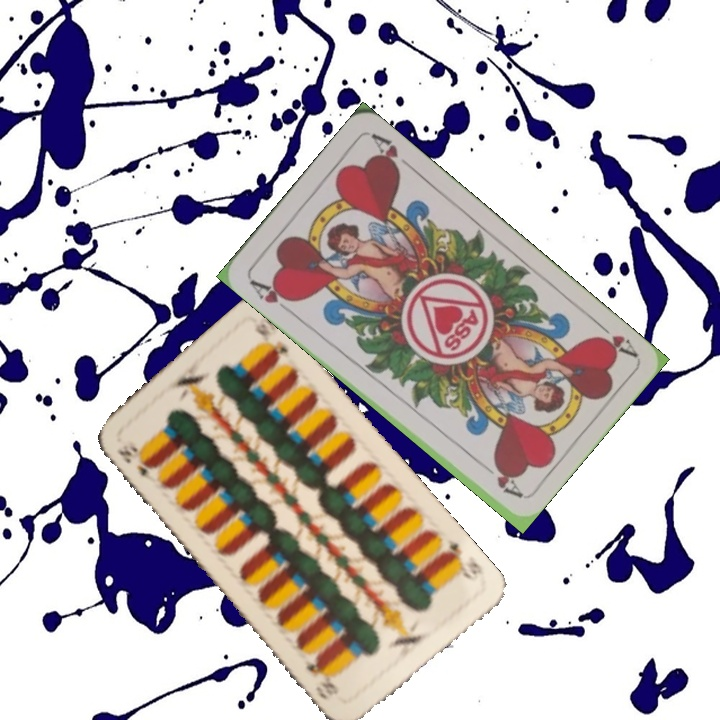E10: (438, 535, 485, 584), (113, 442, 158, 486)
HA: (588, 316, 640, 360), (245, 275, 297, 317)
